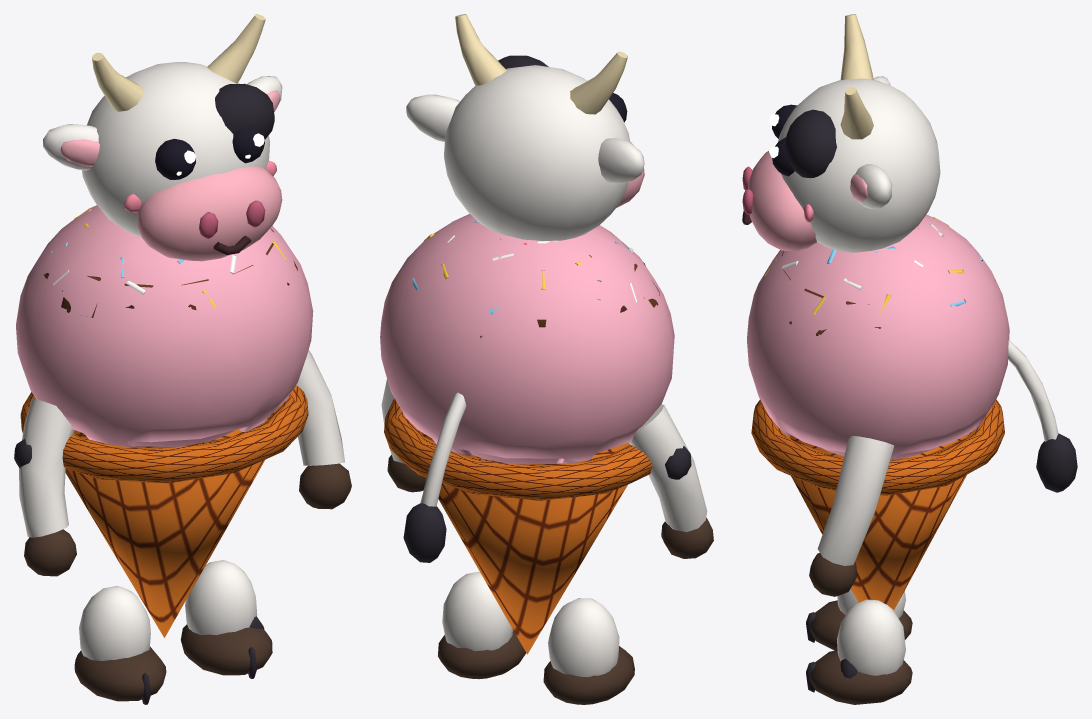
The model's file is pilot_ku2_is_lav.glb.
3 views of the same model, side by side, from view 1: azimuth 30°, elevation 25°; view 2: azimuth 150°, elevation 25°; view 3: azimuth 270°, elevation 25° (orthographic). The views are drawn at different scales.
Visible parts, largest first — view 1: kropp, hode, bein_vf, vinge_v, bein_hf, vinge_h; view 2: kropp, hode, bein_vf, vinge_v, bein_hf, hale, vinge_h; view 3: kropp, hode, bein_hf, vinge_h, hale, bein_vf.
Part boxes in pixels (bbox=[...]): kropp: bbox=[16, 205, 313, 637]; hode: bbox=[43, 14, 282, 261]; bein_vf: bbox=[74, 586, 166, 704]; vinge_v: bbox=[14, 398, 76, 576]; bein_hf: bbox=[180, 560, 272, 678]; vinge_h: bbox=[296, 350, 351, 509]; kropp: bbox=[380, 214, 674, 654]; hode: bbox=[406, 14, 644, 244]; bein_vf: bbox=[543, 598, 634, 704]; vinge_v: bbox=[629, 404, 713, 558]; bein_hf: bbox=[438, 571, 525, 679]; hale: bbox=[403, 392, 466, 562]; vinge_h: bbox=[381, 379, 426, 492]; kropp: bbox=[747, 214, 1009, 610]; hode: bbox=[742, 14, 940, 252]; bein_hf: bbox=[806, 599, 912, 704]; vinge_h: bbox=[809, 436, 894, 596]; hale: bbox=[1008, 340, 1077, 492]; bein_vf: bbox=[806, 588, 912, 650].
Bounding box in the file's own units: 1.03 × 1.99 × 0.97.
Materials: 18 (1 with a texture image).
